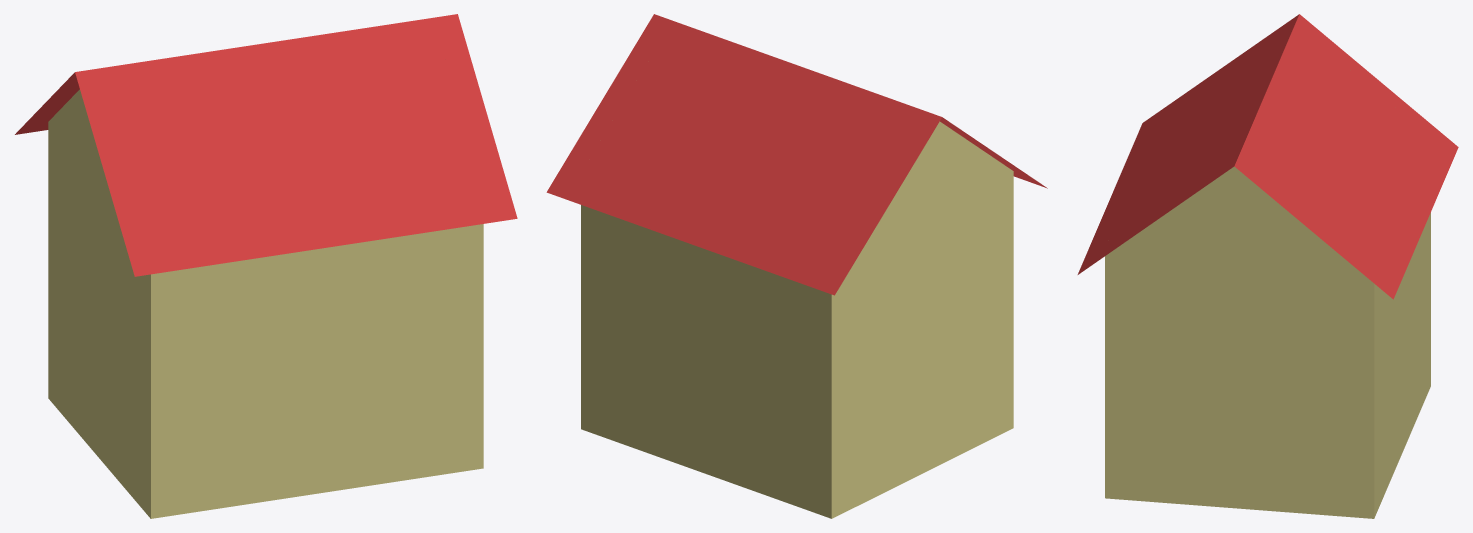
3 renders of one model, left to right at view 1: azimuth 30°, elevation 25°; view 2: azimuth 150°, elevation 25°; view 3: azimuth 270°, elevation 25°, orthographic. The views are drawn at different scales.
Size of the model in its own units: 17.47 by 15.95 by 16.25.
